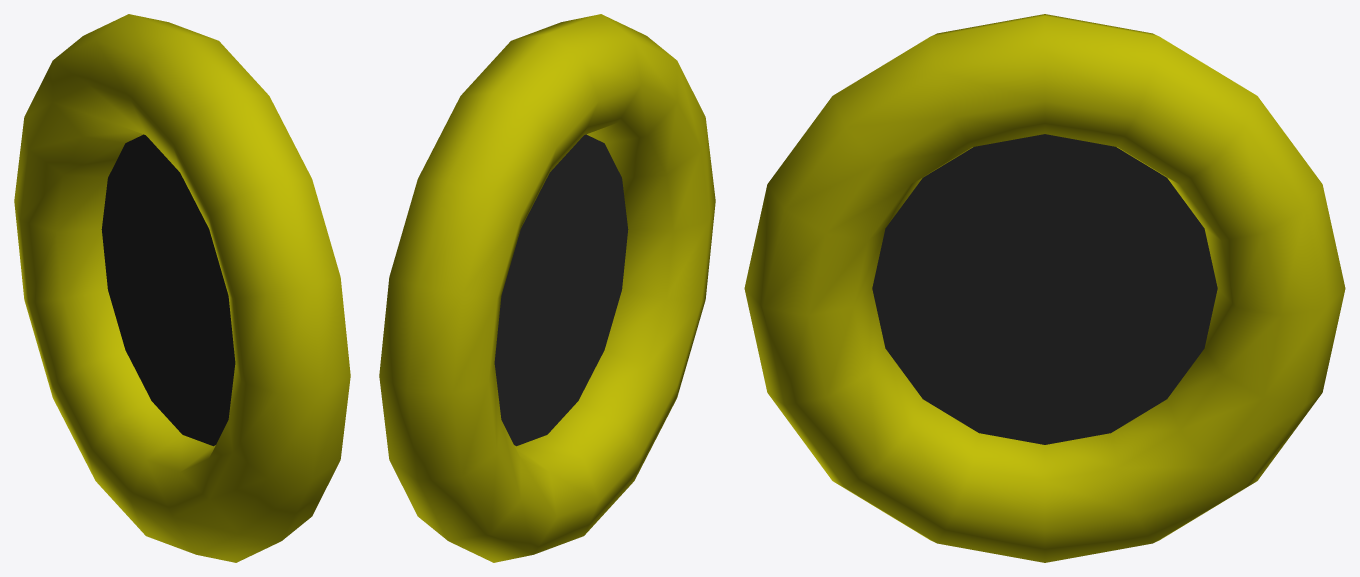
The model's file is Pass1.obj.
3 renders of one model, left to right at view 1: azimuth 30°, elevation 25°; view 2: azimuth 150°, elevation 25°; view 3: azimuth 270°, elevation 25°, orthographic. The views are drawn at different scales.
Size of the model in its own units: 10.94 by 51.43 by 51.43.
2 materials, 2 textured.
